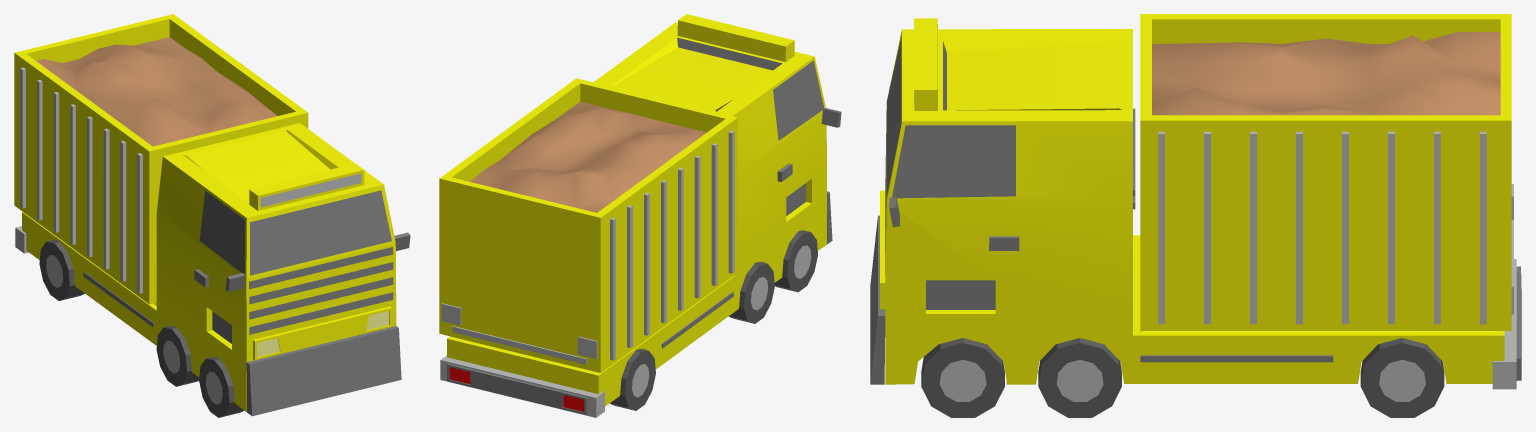
File: SM_Truck_02_01.FBX
The picture shows the model from 3 angles, left to right: view 1: azimuth 30°, elevation 25°; view 2: azimuth 150°, elevation 25°; view 3: azimuth 270°, elevation 25°; orthographic projection. The views are drawn at different scales.
Parts seen in each view (by area): view 1: SM_Truck_02_01, SM_Wheel_RBack, SM_Wheel_RFront, SM_Wheel_RMid; view 2: SM_Truck_02_01, SM_Wheel_RMid, SM_Wheel_RBack, SM_Wheel_RFront; view 3: SM_Truck_02_01, SM_Wheel_LFront001, SM_Wheel_LBack, SM_Wheel_LMid.
Boxes of the visible parts, left/top/right/bottom form: SM_Truck_02_01: left=14, top=14, right=410, bottom=416; SM_Wheel_RBack: left=39, top=240, right=84, bottom=300; SM_Wheel_RFront: left=199, top=356, right=244, bottom=417; SM_Wheel_RMid: left=156, top=325, right=199, bottom=386; SM_Truck_02_01: left=439, top=14, right=841, bottom=417; SM_Wheel_RMid: left=728, top=262, right=774, bottom=323; SM_Wheel_RBack: left=610, top=349, right=655, bottom=410; SM_Wheel_RFront: left=774, top=230, right=817, bottom=292; SM_Truck_02_01: left=870, top=14, right=1521, bottom=389; SM_Wheel_LFront001: left=921, top=338, right=1004, bottom=417; SM_Wheel_LBack: left=1360, top=338, right=1444, bottom=417; SM_Wheel_LMid: left=1038, top=338, right=1121, bottom=417.
Size of the model in its own units: 1.85 by 2.21 by 4.19.
Materials: 1 (1 with a texture image).
